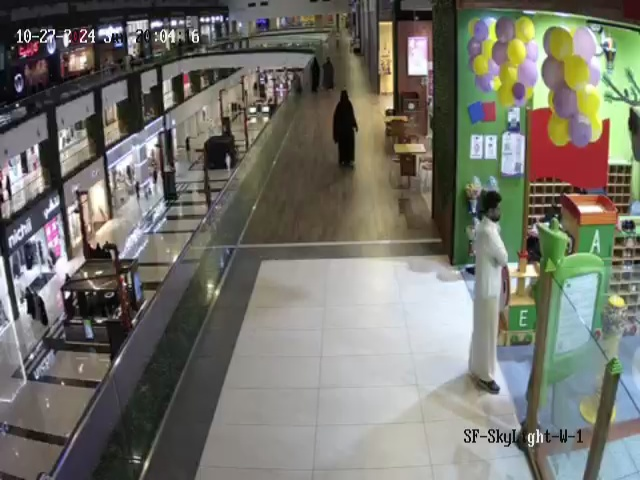female: (332, 90, 358, 168), (307, 54, 323, 98), (322, 56, 335, 91)
male: (467, 190, 510, 394)
